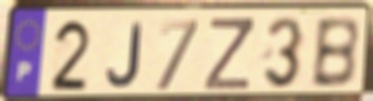2: (49, 16, 94, 95)
3: (256, 15, 309, 92)
7: (156, 18, 201, 91)
B: (308, 14, 362, 91)
J: (104, 20, 144, 90)
Z: (202, 15, 256, 92)
